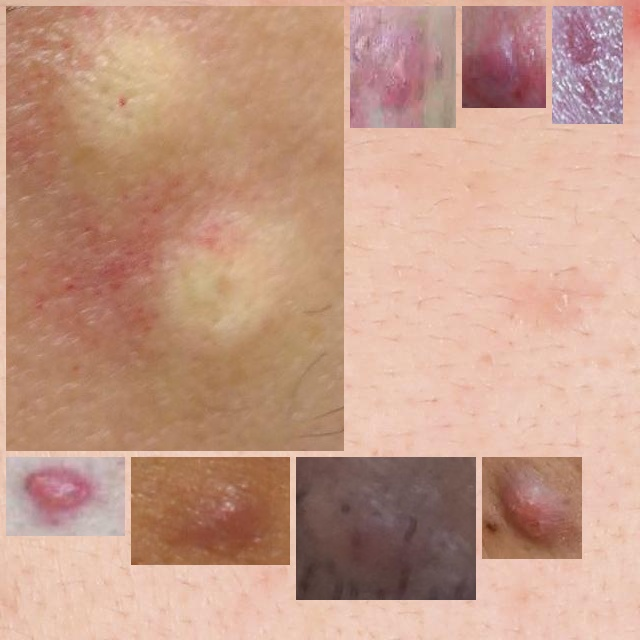nodule: (14, 14, 336, 443), (304, 465, 468, 592), (139, 465, 282, 557), (358, 14, 448, 120), (490, 465, 574, 551), (14, 465, 117, 528), (470, 14, 538, 100), (560, 14, 615, 116)
